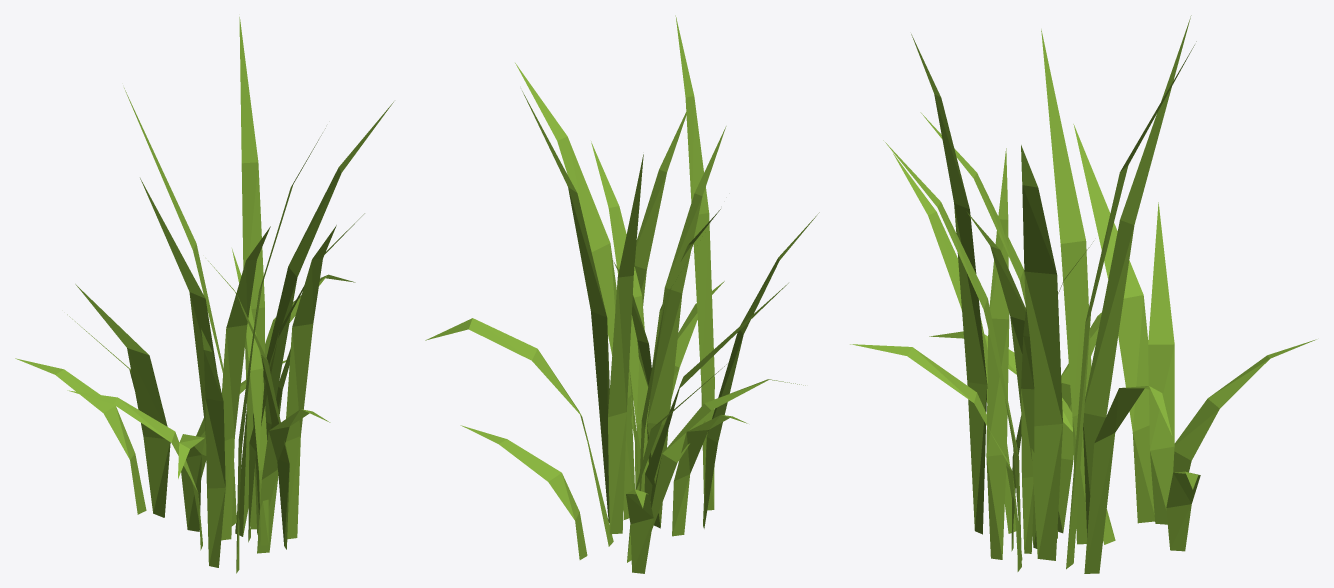
File: grass-middle-a.fbx
3 views of the same model, side by side, from view 1: azimuth 30°, elevation 25°; view 2: azimuth 150°, elevation 25°; view 3: azimuth 270°, elevation 25° (orthographic). The views are drawn at different scales.
Visible parts, largest first — view 1: grass-middle-a; view 2: grass-middle-a; view 3: grass-middle-a.
Boxes of the visible parts, <box> form: grass-middle-a: <box>15,17,393,573</box>; grass-middle-a: <box>425,15,819,573</box>; grass-middle-a: <box>850,15,1316,573</box>.
Bounding box in the file's own units: 0.6196 × 0.8728 × 0.6627.
